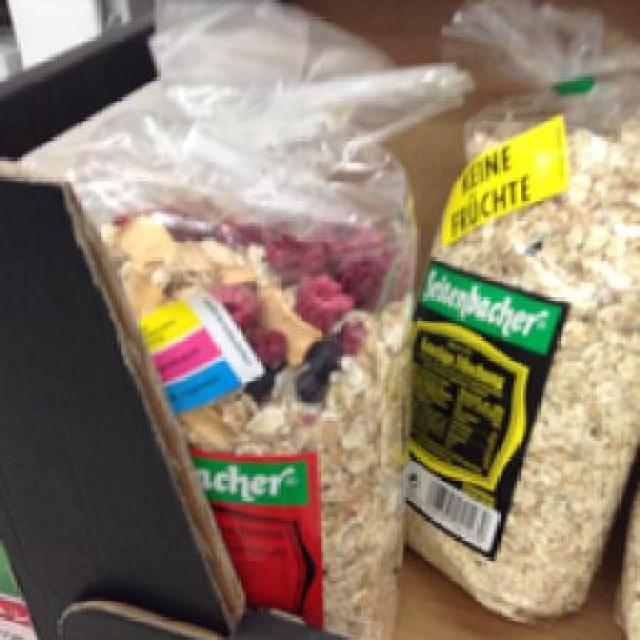Cereal: (26, 74, 414, 623), (414, 71, 632, 620)
